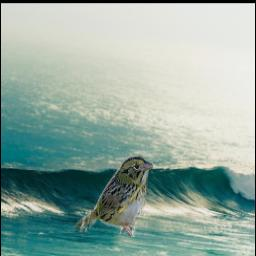Sparrow: (75, 155, 153, 238)
